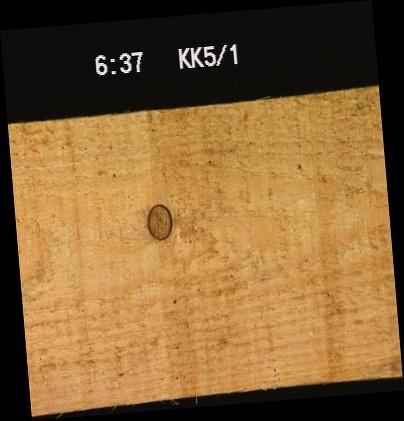dry_knot: (145, 202, 173, 241)
